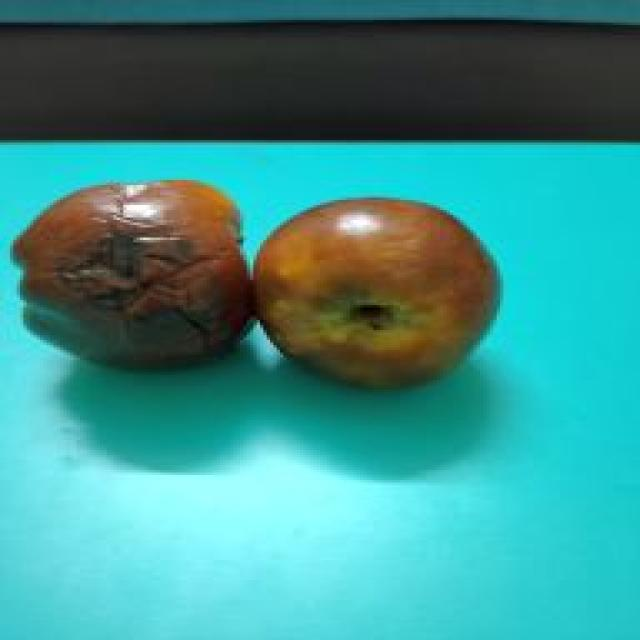Bad_Apple: (15, 181, 252, 366)
